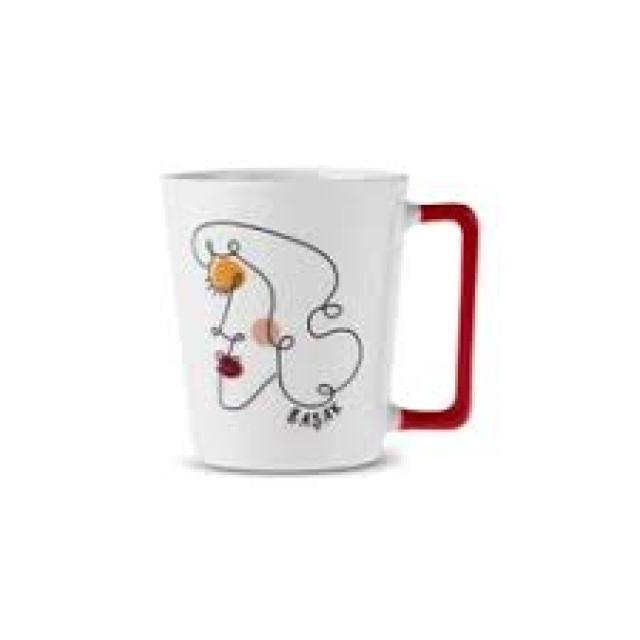taza: (161, 167, 483, 475)
